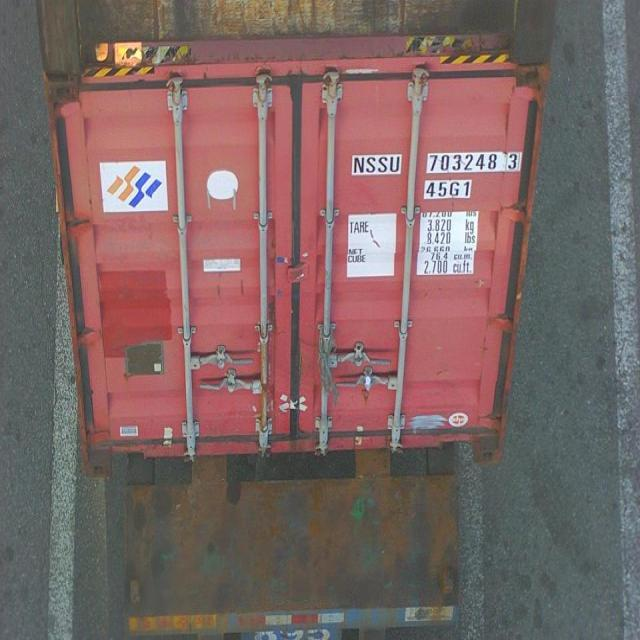ISO: (424, 180, 474, 199)
container_number: (350, 150, 522, 178)
